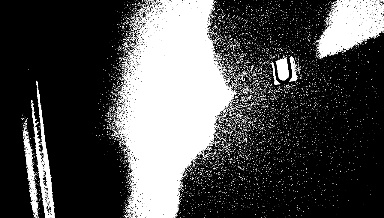U: (269, 55, 294, 82)
